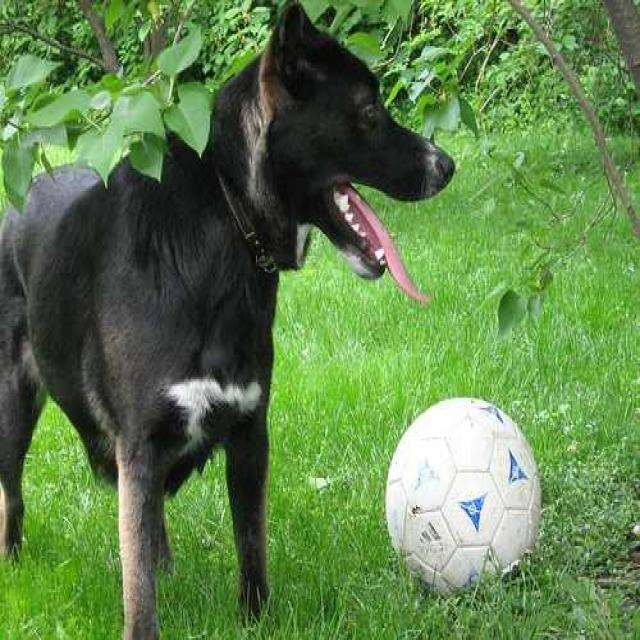ball: (385, 398, 542, 596)
